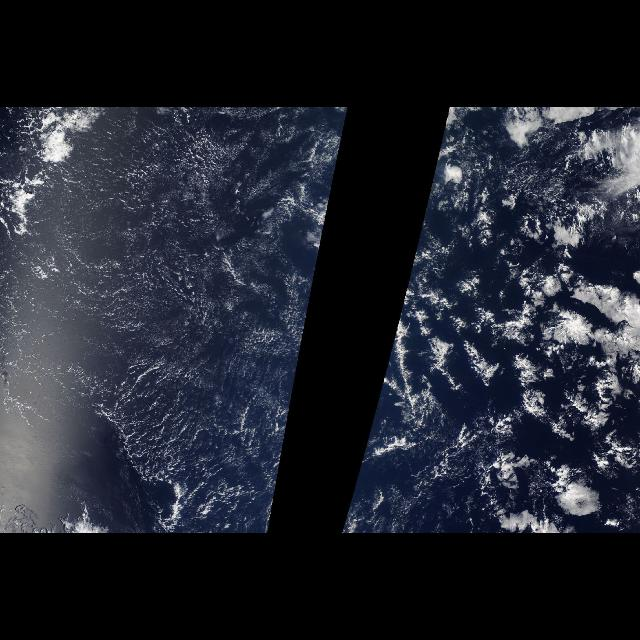Flower: (385, 219, 639, 526)
Sugar: (0, 111, 314, 515)
